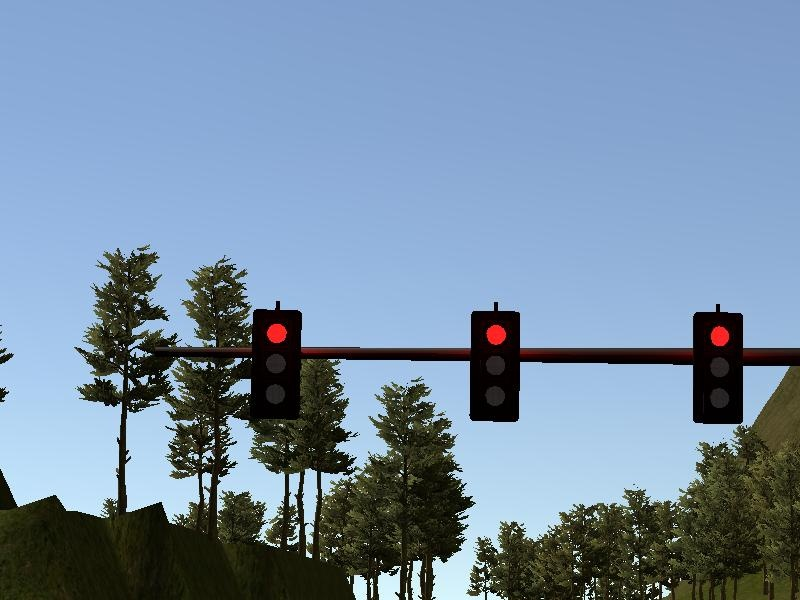Red: (690, 310, 746, 425), (467, 310, 522, 424), (250, 307, 302, 421)
